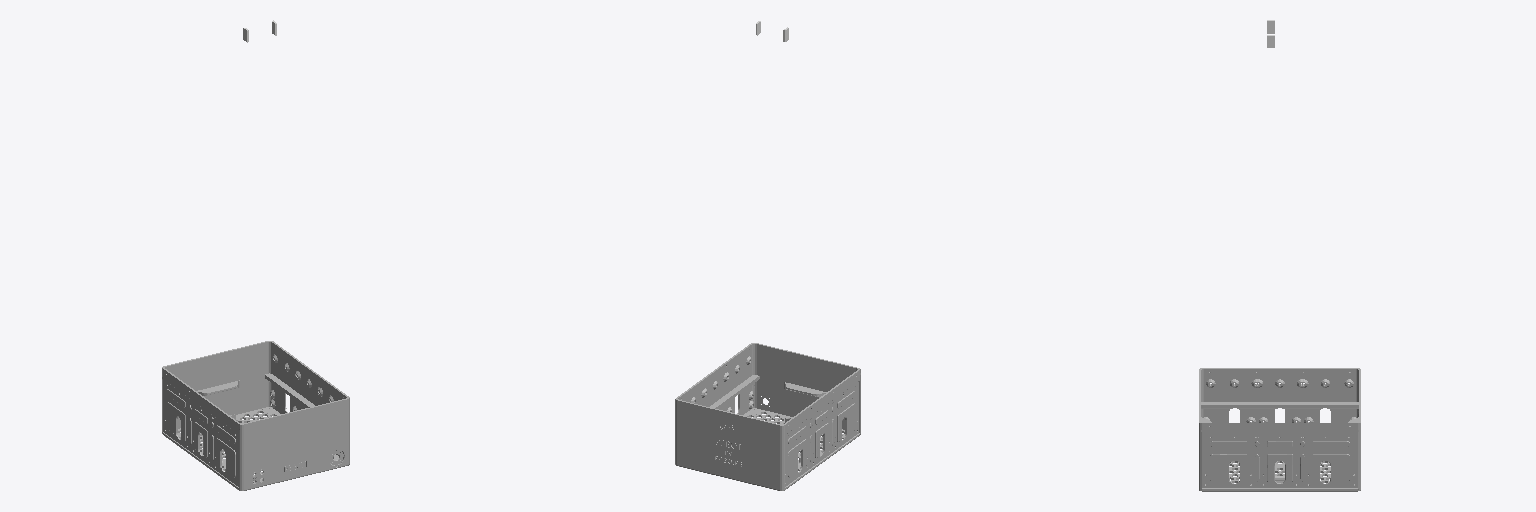
robot.urdf — gen3_robotiq_2f_85:
<?xml version="1.0" ?>
<!-- =================================================================================== -->
<!-- |    This document was autogenerated by xacro from gen3_robotiq_2f_85.xacro       | -->
<!-- |    EDITING THIS FILE BY HAND IS NOT RECOMMENDED                                 | -->
<!-- =================================================================================== -->
<robot name="gen3_robotiq_2f_85">
  <!-- Run the macros -->
  <link name="base_link">
    <inertial>
      <origin rpy="0 0 0" xyz="-0.000648 -0.000166 0.084487"/>
      <mass value="1.697"/>
      <inertia ixx="0.004622" ixy="9E-06" ixz="6E-05" iyy="0.004495" iyz="9E-06" izz="0.002079"/>
    </inertial>
    <visual>
      <origin rpy="0 0 0" xyz="0 0 0"/>
      <geometry>
        <mesh filename="meshes/base_link.STL"/>
      </geometry>
      <material name="gray">
        <color rgba="0.75294 0.75294 0.75294 1"/>
      </material>
    </visual>
    <collision>
      <origin rpy="0 0 0" xyz="0 0 0"/>
      <geometry>
        <mesh filename="meshes/base_link.STL"/>
      </geometry>
    </collision>
  </link>
  <link name="shoulder_link">
    <inertial>
      <origin rpy="0 0 0" xyz="-2.3E-05 -0.010364 -0.07336"/>
      <mass value="1.3773"/>
      <inertia ixx="0.00457" ixy="1E-06" ixz="2E-06" iyy="0.004831" iyz="0.000448" izz="0.001409"/>
    </inertial>
    <visual>
      <origin rpy="0 0 0" xyz="0 0 0"/>
      <geometry>
        <mesh filename="meshes/shoulder_link.STL"/>
      </geometry>
      <material name="gray">
        <color rgba="0.75294 0.75294 0.75294 1"/>
      </material>
    </visual>
    <collision>
      <origin rpy="0 0 0" xyz="0 0 0"/>
      <geometry>
        <mesh filename="meshes/shoulder_link.STL"/>
      </geometry>
    </collision>
  </link>
  <joint name="joint_1" type="continuous">
    <origin rpy="3.1416 2.7629E-18 -4.9305E-36" xyz="0 0 0.15643"/>
    <parent link="base_link"/>
    <child link="shoulder_link"/>
    <axis xyz="0 0 1"/>
    <limit effort="39" velocity="1.3963"/>
  </joint>
  <link name="half_arm_1_link">
    <inertial>
      <origin rpy="0 0 0" xyz="-4.4E-05 -0.09958 -0.013278"/>
      <mass value="1.1636"/>
      <inertia ixx="0.011088" ixy="5E-06" ixz="0" iyy="0.001072" iyz="-0.000691" izz="0.011255"/>
    </inertial>
    <visual>
      <origin rpy="0 0 0" xyz="0 0 0"/>
      <geometry>
        <mesh filename="meshes/half_arm_1_link.STL"/>
      </geometry>
      <material name="gray">
        <color rgba="0.75294 0.75294 0.75294 1"/>
      </material>
    </visual>
    <collision>
      <origin rpy="0 0 0" xyz="0 0 0"/>
      <geometry>
        <mesh filename="meshes/half_arm_1_link.STL"/>
      </geometry>
    </collision>
  </link>
  <joint name="joint_2" type="revolute">
    <origin rpy="1.5708 2.1343E-17 -1.1102E-16" xyz="0 0.005375 -0.12838"/>
    <parent link="shoulder_link"/>
    <child link="half_arm_1_link"/>
    <axis xyz="0 0 1"/>
    <limit effort="39" lower="-2.24" upper="2.24" velocity="1.3963"/>
  </joint>
  <link name="half_arm_2_link">
    <inertial>
      <origin rpy="0 0 0" xyz="-4.4E-05 -0.006641 -0.117892"/>
      <mass value="1.1636"/>
      <inertia ixx="0.010932" ixy="0" ixz="-7E-06" iyy="0.011127" iyz="0.000606" izz="0.001043"/>
    </inertial>
    <visual>
      <origin rpy="0 0 0" xyz="0 0 0"/>
      <geometry>
        <mesh filename="meshes/half_arm_2_link.STL"/>
      </geometry>
      <material name="gray">
        <color rgba="0.75294 0.75294 0.75294 1"/>
      </material>
    </visual>
    <collision>
      <origin rpy="0 0 0" xyz="0 0 0"/>
      <geometry>
        <mesh filename="meshes/half_arm_2_link.STL"/>
      </geometry>
    </collision>
  </link>
  <joint name="joint_3" type="continuous">
    <origin rpy="-1.5708 1.2326E-32 -2.9122E-16" xyz="0 -0.21038 -0.006375"/>
    <parent link="half_arm_1_link"/>
    <child link="half_arm_2_link"/>
    <axis xyz="0 0 1"/>
    <limit effort="39" velocity="1.3963"/>
  </joint>
  <link name="forearm_link">
    <inertial>
      <origin rpy="0 0 0" xyz="-1.8E-05 -0.075478 -0.015006"/>
      <mass value="0.9302"/>
      <inertia ixx="0.008147" ixy="-1E-06" ixz="0" iyy="0.000631" iyz="-0.0005" izz="0.008316"/>
    </inertial>
    <visual>
      <origin rpy="0 0 0" xyz="0 0 0"/>
      <geometry>
        <mesh filename="meshes/forearm_link.STL"/>
      </geometry>
      <material name="gray">
        <color rgba="0.75294 0.75294 0.75294 1"/>
      </material>
    </visual>
    <collision>
      <origin rpy="0 0 0" xyz="0 0 0"/>
      <geometry>
        <mesh filename="meshes/forearm_link.STL"/>
      </geometry>
    </collision>
  </link>
  <joint name="joint_4" type="revolute">
    <origin rpy="1.5708 -6.6954E-17 -1.6653E-16" xyz="0 0.006375 -0.21038"/>
    <parent link="half_arm_2_link"/>
    <child link="forearm_link"/>
    <axis xyz="0 0 1"/>
    <limit effort="39" lower="-2.57" upper="2.57" velocity="1.3963"/>
  </joint>
  <link name="spherical_wrist_1_link">
    <inertial>
      <origin rpy="0 0 0" xyz="1E-06 -0.009432 -0.063883"/>
      <mass value="0.6781"/>
      <inertia ixx="0.001596" ixy="0" ixz="0" iyy="0.001607" iyz="0.000256" izz="0.000399"/>
    </inertial>
    <visual>
      <origin rpy="0 0 0" xyz="0 0 0"/>
      <geometry>
        <mesh filename="meshes/spherical_wrist_1_link.STL"/>
      </geometry>
      <material name="gray">
        <color rgba="0.75294 0.75294 0.75294 1"/>
      </material>
    </visual>
    <collision>
      <origin rpy="0 0 0" xyz="0 0 0"/>
      <geometry>
        <mesh filename="meshes/spherical_wrist_1_link.STL"/>
      </geometry>
    </collision>
  </link>
  <joint name="joint_5" type="continuous">
    <origin rpy="-1.5708 2.2204E-16 -6.373E-17" xyz="0 -0.20843 -0.006375"/>
    <parent link="forearm_link"/>
    <child link="spherical_wrist_1_link"/>
    <axis xyz="0 0 1"/>
    <limit effort="9" velocity="1.2218"/>
  </joint>
  <link name="spherical_wrist_2_link">
    <inertial>
      <origin rpy="0 0 0" xyz="1E-06 -0.045483 -0.00965"/>
      <mass value="0.6781"/>
      <inertia ixx="0.001641" ixy="0" ixz="0" iyy="0.00041" iyz="-0.000278" izz="0.001641"/>
    </inertial>
    <visual>
      <origin rpy="0 0 0" xyz="0 0 0"/>
      <geometry>
        <mesh filename="meshes/spherical_wrist_2_link.STL"/>
      </geometry>
      <material name="gray">
        <color rgba="0.75294 0.75294 0.75294 1"/>
      </material>
    </visual>
    <collision>
      <origin rpy="0 0 0" xyz="0 0 0"/>
      <geometry>
        <mesh filename="meshes/spherical_wrist_2_link.STL"/>
      </geometry>
    </collision>
  </link>
  <joint name="joint_6" type="revolute">
    <origin rpy="1.5708 9.2076E-28 -8.2157E-15" xyz="0 0.00017505 -0.10593"/>
    <parent link="spherical_wrist_1_link"/>
    <child link="spherical_wrist_2_link"/>
    <axis xyz="0 0 1"/>
    <limit effort="9" lower="-2.09" upper="2.09" velocity="1.2218"/>
  </joint>
  <link name="bracelet_link">
    <inertial>
      <origin rpy="0 0 0" xyz="0.000281 0.011402 -0.029798"/>
      <mass value="0.5"/>
      <inertia ixx="0.000587" ixy="3E-06" ixz="3E-06" iyy="0.000369" iyz="-0.000118" izz="0.000609"/>
    </inertial>
    <visual>
      <origin rpy="0 0 0" xyz="0 0 0"/>
      <geometry>
        <mesh filename="meshes/bracelet_with_vision_link.STL"/>
      </geometry>
      <material name="gray">
        <color rgba="0.75294 0.75294 0.75294 1"/>
      </material>
    </visual>
    <collision>
      <origin rpy="0 0 0" xyz="0 0 0"/>
      <geometry>
        <mesh filename="meshes/bracelet_with_vision_link.STL"/>
      </geometry>
    </collision>
  </link>
  <joint name="joint_7" type="continuous">
    <origin rpy="-1.5708 -5.5511E-17 9.6396E-17" xyz="0 -0.10593 -0.00017505"/>
    <parent link="spherical_wrist_2_link"/>
    <child link="bracelet_link"/>
    <axis xyz="0 0 1"/>
    <limit effort="9" velocity="1.2218"/>
  </joint>
  <link name="end_effector_link"/>
  <joint name="end_effector" type="fixed">
    <origin rpy="3.14159265358979 1.09937075168372E-32 0" xyz="0 0 -0.0615250000000001"/>
    <parent link="bracelet_link"/>
    <child link="end_effector_link"/>
    <axis xyz="0 0 0"/>
  </joint>
  <link name="camera_link"/>
  <joint name="camera_module" type="fixed">
    <origin rpy="3.14159265358979 3.14159265358979 0" xyz="0 0.05639 -0.00305"/>
    <parent link="end_effector_link"/>
    <child link="camera_link"/>
  </joint>
  <link name="camera_depth_frame"/>
  <joint name="depth_module" type="fixed">
    <origin rpy="3.14159265358979 3.14159265358979 0" xyz="0.0275 0.066 -0.00305"/>
    <parent link="end_effector_link"/>
    <child link="camera_depth_frame"/>
  </joint>
  <link name="camera_color_frame"/>
  <joint name="color_module" type="fixed">
    <origin rpy="3.14159265358979 3.14159265358979 0" xyz="0 0.05639 -0.00305"/>
    <parent link="end_effector_link"/>
    <child link="camera_color_frame"/>
  </joint>
  <!-- This line was removed by Kinova because we replaced the transmission file with our own 
    <xacro:include filename="$(find robotiq_2f_85_gripper_visualization)/urdf/robotiq_arg2f_transmission.xacro" /> -->
  <!-- Tool frame used by the arm -->
  <link name="tool_frame"/>
  <joint name="tool_frame_joint" type="fixed">
    <origin rpy="0 0 0" xyz="0 0 0.120"/>
    <parent link="end_effector_link"/>
    <child link="tool_frame"/>
    <axis xyz="0 0 0"/>
  </joint>
  <!-- This joint was added by Kinova -->
  <joint name="gripper_base_joint" type="fixed">
    <parent link="end_effector_link"/>
    <child link="robotiq_arg2f_base_link"/>
    <origin rpy="0.0 0.0 1.57" xyz="0.0 0.0 0.0"/>
  </joint>
  <link name="robotiq_arg2f_base_link">
    <inertial>
      <origin rpy="0 0 0" xyz="8.625E-08 -4.6583E-06 0.03145"/>
      <mass value="0.22652"/>
      <inertia ixx="0.00020005" ixy="-4.2442E-10" ixz="-2.9069E-10" iyy="0.00017832" iyz="-3.4402E-08" izz="0.00013478"/>
    </inertial>
    <visual>
      <origin rpy="0 0 0" xyz="0 0 0"/>
      <geometry>
        <!-- The DAE file doesn't show well in Gazebo so we're using the STL instead -->
        <!-- <mesh filename="package://kortex_description/grippers/robotiq_2f_85/meshes/visual/robotiq_arg2f_85_base_link.dae" scale="0.001 0.001 0.001"/> -->
        <mesh filename="meshes/collision/robotiq_arg2f_base_link_85.stl"/>
      </geometry>
      <material name="black">
        <color rgba="0.1 0.1 0.1 1"/>
      </material>
    </visual>
    <collision>
      <origin rpy="0 0 0" xyz="0 0 0"/>
      <geometry>
        <mesh filename="meshes/collision/robotiq_arg2f_base_link_85.stl"/>
      </geometry>
    </collision>
  </link>
  <gazebo reference="robotiq_arg2f_base_link">
    <material>Gazebo/Black</material>
  </gazebo>
  <link name="left_outer_knuckle">
    <inertial>
      <origin rpy="0 0 0" xyz="-0.000200000000003065 0.0199435877845359 0.0292245259211331"/>
      <mass value="0.00853198276973456"/>
      <inertia ixx="2.89328108496468E-06" ixy="-1.57935047237397E-19" ixz="-1.93980378593255E-19" iyy="1.86719750325683E-06" iyz="-1.21858577871576E-06" izz="1.21905238907251E-06"/>
    </inertial>
    <visual>
      <origin rpy="0 0 0" xyz="0 0 0"/>
      <geometry>
        <mesh filename="meshes/visual/robotiq_arg2f_85_outer_knuckle.dae" scale="0.001 0.001 0.001"/>
      </geometry>
      <material name="white">
        <color rgba="0.792156862745098 0.819607843137255 0.933333333333333 1"/>
      </material>
    </visual>
    <collision>
      <origin rpy="0 0 0" xyz="0 0 0"/>
      <geometry>
        <mesh filename="meshes/collision/robotiq_arg2f_85_outer_knuckle.dae" scale="0.001 0.001 0.001"/>
      </geometry>
    </collision>
  </link>
  <link name="left_outer_finger">
    <inertial>
      <origin rpy="0 0 0" xyz="0.00030115855001899 0.0373907951953854 -0.0208027427000385"/>
      <mass value="0.022614240507152"/>
      <inertia ixx="1.52518312458174E-05" ixy="9.76583423954399E-10" ixz="-5.43838577022588E-10" iyy="6.17694243867776E-06" iyz="6.78636130740228E-06" izz="1.16494917907219E-05"/>
    </inertial>
    <visual>
      <origin rpy="0 0 0" xyz="0 0 0"/>
      <geometry>
        <mesh filename="meshes/visual/robotiq_arg2f_85_outer_finger.dae" scale="0.001 0.001 0.001"/>
      </geometry>
      <material name="black">
        <color rgba="0.1 0.1 0.1 1"/>
      </material>
    </visual>
    <collision>
      <origin rpy="0 0 0" xyz="0 0 0"/>
      <geometry>
        <mesh filename="meshes/collision/robotiq_arg2f_85_outer_finger.dae" scale="0.001 0.001 0.001"/>
      </geometry>
    </collision>
  </link>
  <link name="left_inner_finger">
    <inertial>
      <origin rpy="0 0 0" xyz="0.000299999999999317 0.0160078233491243 -0.0136945669206257"/>
      <mass value="0.0104003125914103"/>
      <inertia ixx="2.71909453810972E-06" ixy="1.35402465472579E-21" ixz="-7.1817349065269E-22" iyy="7.69100314106116E-07" iyz="6.74715432769696E-07" izz="2.30315190420171E-06"/>
    </inertial>
    <visual>
      <origin rpy="0 0 0" xyz="0 0 0"/>
      <geometry>
        <mesh filename="meshes/visual/robotiq_arg2f_85_inner_finger.dae" scale="0.001 0.001 0.001"/>
      </geometry>
      <material name="black">
        <color rgba="0.1 0.1 0.1 1"/>
      </material>
    </visual>
    <collision>
      <origin rpy="0 0 0" xyz="0 0 0"/>
      <geometry>
        <mesh filename="meshes/collision/robotiq_arg2f_85_inner_finger.dae" scale="0.001 0.001 0.001"/>
      </geometry>
    </collision>
  </link>
  <link name="left_inner_finger_pad">
    <visual>
      <origin rpy="0 0 0" xyz="0 0 0"/>
      <geometry>
        <box size="0.022 0.00635 0.0375"/>
      </geometry>
      <material name="white">
        <color rgba="0.9 0.9 0.9 1"/>
      </material>
    </visual>
    <collision>
      <origin rpy="0 0 0" xyz="0 0 0"/>
      <geometry>
        <box size="0.022 0.00635 0.0375"/>
      </geometry>
      <material name="red">
        <color rgba="0.9 0.0 0.0 1"/>
      </material>
    </collision>
  </link>
  <link name="left_inner_knuckle">
    <inertial>
      <origin rpy="0 0 0" xyz="0.000123011831763771 0.0507850843201817 0.00103968640075166"/>
      <mass value="0.0271177346495152"/>
      <inertia ixx="2.61910379223783E-05" ixy="-2.43616858946494E-07" ixz="-6.37789906117123E-09" iyy="2.8270243746167E-06" iyz="-5.37200748039765E-07" izz="2.83695868220296E-05"/>
    </inertial>
    <visual>
      <origin rpy="0 0 0" xyz="0 0 0"/>
      <geometry>
        <mesh filename="meshes/visual/robotiq_arg2f_85_inner_knuckle.dae" scale="0.001 0.001 0.001"/>
      </geometry>
      <material name="black">
        <color rgba="0.1 0.1 0.1 1"/>
      </material>
    </visual>
    <collision>
      <origin rpy="0 0 0" xyz="0 0 0"/>
      <geometry>
        <mesh filename="meshes/collision/robotiq_arg2f_85_inner_knuckle.dae" scale="0.001 0.001 0.001"/>
      </geometry>
    </collision>
  </link>
  <link name="right_outer_knuckle">
    <inertial>
      <origin rpy="0 0 0" xyz="-0.000200000000003065 0.0199435877845359 0.0292245259211331"/>
      <mass value="0.00853198276973456"/>
      <inertia ixx="2.89328108496468E-06" ixy="-1.57935047237397E-19" ixz="-1.93980378593255E-19" iyy="1.86719750325683E-06" iyz="-1.21858577871576E-06" izz="1.21905238907251E-06"/>
    </inertial>
    <visual>
      <origin rpy="0 0 0" xyz="0 0 0"/>
      <geometry>
        <mesh filename="meshes/visual/robotiq_arg2f_85_outer_knuckle.dae" scale="0.001 0.001 0.001"/>
      </geometry>
      <material name="white">
        <color rgba="0.792156862745098 0.819607843137255 0.933333333333333 1"/>
      </material>
    </visual>
    <collision>
      <origin rpy="0 0 0" xyz="0 0 0"/>
      <geometry>
        <mesh filename="meshes/collision/robotiq_arg2f_85_outer_knuckle.dae" scale="0.001 0.001 0.001"/>
      </geometry>
    </collision>
  </link>
  <link name="right_outer_finger">
    <inertial>
      <origin rpy="0 0 0" xyz="0.00030115855001899 0.0373907951953854 -0.0208027427000385"/>
      <mass value="0.022614240507152"/>
      <inertia ixx="1.52518312458174E-05" ixy="9.76583423954399E-10" ixz="-5.43838577022588E-10" iyy="6.17694243867776E-06" iyz="6.78636130740228E-06" izz="1.16494917907219E-05"/>
    </inertial>
    <visual>
      <origin rpy="0 0 0" xyz="0 0 0"/>
      <geometry>
        <mesh filename="meshes/visual/robotiq_arg2f_85_outer_finger.dae" scale="0.001 0.001 0.001"/>
      </geometry>
      <material name="black">
        <color rgba="0.1 0.1 0.1 1"/>
      </material>
    </visual>
    <collision>
      <origin rpy="0 0 0" xyz="0 0 0"/>
      <geometry>
        <mesh filename="meshes/collision/robotiq_arg2f_85_outer_finger.dae" scale="0.001 0.001 0.001"/>
      </geometry>
    </collision>
  </link>
  <link name="right_inner_finger">
    <inertial>
      <origin rpy="0 0 0" xyz="0.000299999999999317 0.0160078233491243 -0.0136945669206257"/>
      <mass value="0.0104003125914103"/>
      <inertia ixx="2.71909453810972E-06" ixy="1.35402465472579E-21" ixz="-7.1817349065269E-22" iyy="7.69100314106116E-07" iyz="6.74715432769696E-07" izz="2.30315190420171E-06"/>
    </inertial>
    <visual>
      <origin rpy="0 0 0" xyz="0 0 0"/>
      <geometry>
        <mesh filename="meshes/visual/robotiq_arg2f_85_inner_finger.dae" scale="0.001 0.001 0.001"/>
      </geometry>
      <material name="black">
        <color rgba="0.1 0.1 0.1 1"/>
      </material>
    </visual>
    <collision>
      <origin rpy="0 0 0" xyz="0 0 0"/>
      <geometry>
        <mesh filename="meshes/collision/robotiq_arg2f_85_inner_finger.dae" scale="0.001 0.001 0.001"/>
      </geometry>
    </collision>
  </link>
  <link name="right_inner_finger_pad">
    <visual>
      <origin rpy="0 0 0" xyz="0 0 0"/>
      <geometry>
        <box size="0.022 0.00635 0.0375"/>
      </geometry>
      <material name="white">
        <color rgba="0.9 0.9 0.9 1"/>
      </material>
    </visual>
    <collision>
      <origin rpy="0 0 0" xyz="0 0 0"/>
      <geometry>
        <box size="0.022 0.00635 0.0375"/>
      </geometry>
      <material name="white">
        <color rgba="0.9 0.0 0.0 1"/>
      </material>
    </collision>
  </link>
  <link name="right_inner_knuckle">
    <inertial>
      <origin rpy="0 0 0" xyz="0.000123011831763771 0.0507850843201817 0.00103968640075166"/>
      <mass value="0.0271177346495152"/>
      <inertia ixx="2.61910379223783E-05" ixy="-2.43616858946494E-07" ixz="-6.37789906117123E-09" iyy="2.8270243746167E-06" iyz="-5.37200748039765E-07" izz="2.83695868220296E-05"/>
    </inertial>
    <visual>
      <origin rpy="0 0 0" xyz="0 0 0"/>
      <geometry>
        <mesh filename="meshes/visual/robotiq_arg2f_85_inner_knuckle.dae" scale="0.001 0.001 0.001"/>
      </geometry>
      <material name="black">
        <color rgba="0.1 0.1 0.1 1"/>
      </material>
    </visual>
    <collision>
      <origin rpy="0 0 0" xyz="0 0 0"/>
      <geometry>
        <mesh filename="/meshes/collision/robotiq_arg2f_85_inner_knuckle.dae" scale="0.001 0.001 0.001"/>
      </geometry>
    </collision>
  </link>
  <joint name="finger_joint" type="revolute">
    <origin rpy="0 0 3.141592653589793" xyz="0 -0.0306011 0.054904"/>
    <parent link="robotiq_arg2f_base_link"/>
    <child link="left_outer_knuckle"/>
    <axis xyz="1 0 0"/>
    <limit effort="1000" lower="0" upper="0.8" velocity="2.0"/>
  </joint>
  <joint name="left_outer_finger_joint" type="fixed">
    <origin rpy="0 0 0" xyz="0 0.0315 -0.0041"/>
    <parent link="left_outer_knuckle"/>
    <child link="left_outer_finger"/>
    <axis xyz="1 0 0"/>
  </joint>
  <joint name="left_inner_knuckle_joint" type="revolute">
    <!-- <origin xyz="0 ${reflect * -0.0127} 0.06142" rpy="${pi / 2 + .725} 0 ${(reflect - 1) * pi / 2}" /> -->
    <origin rpy="0 0 3.141592653589793" xyz="0 -0.0127 0.06142"/>
    <parent link="robotiq_arg2f_base_link"/>
    <child link="left_inner_knuckle"/>
    <axis xyz="1 0 0"/>
    <limit effort="1000" lower="0" upper="0.8757" velocity="2.0"/>
    <mimic joint="finger_joint" multiplier="1" offset="0"/>
  </joint>
  <joint name="left_inner_finger_joint" type="revolute">
    <origin rpy="0 0 0" xyz="0 0.0061 0.0471"/>
    <parent link="left_outer_finger"/>
    <child link="left_inner_finger"/>
    <axis xyz="1 0 0"/>
    <limit effort="1000" lower="-0.8757" upper="0.8757" velocity="2.0"/>
    <mimic joint="finger_joint" multiplier="-1" offset="0"/>
  </joint>
  <joint name="left_inner_finger_pad_joint" type="fixed">
    <origin rpy="0 0 0" xyz="0 -0.0220203446692936 0.03242"/>
    <parent link="left_inner_finger"/>
    <child link="left_inner_finger_pad"/>
    <axis xyz="0 0 1"/>
  </joint>
  <joint name="right_outer_knuckle_joint" type="revolute">
    <origin rpy="0 0 0" xyz="0 0.0306011 0.054904"/>
    <parent link="robotiq_arg2f_base_link"/>
    <child link="right_outer_knuckle"/>
    <axis xyz="1 0 0"/>
    <limit effort="1000" lower="0" upper="0.81" velocity="2.0"/>
    <mimic joint="finger_joint" multiplier="1" offset="0"/>
  </joint>
  <joint name="right_outer_finger_joint" type="fixed">
    <origin rpy="0 0 0" xyz="0 0.0315 -0.0041"/>
    <parent link="right_outer_knuckle"/>
    <child link="right_outer_finger"/>
    <axis xyz="1 0 0"/>
  </joint>
  <joint name="right_inner_knuckle_joint" type="revolute">
    <!-- <origin xyz="0 ${reflect * -0.0127} 0.06142" rpy="${pi / 2 + .725} 0 ${(reflect - 1) * pi / 2}" /> -->
    <origin rpy="0 0 0.0" xyz="0 0.0127 0.06142"/>
    <parent link="robotiq_arg2f_base_link"/>
    <child link="right_inner_knuckle"/>
    <axis xyz="1 0 0"/>
    <limit effort="1000" lower="0" upper="0.8757" velocity="2.0"/>
    <mimic joint="finger_joint" multiplier="1" offset="0"/>
  </joint>
  <joint name="right_inner_finger_joint" type="revolute">
    <origin rpy="0 0 0" xyz="0 0.0061 0.0471"/>
    <parent link="right_outer_finger"/>
    <child link="right_inner_finger"/>
    <axis xyz="1 0 0"/>
    <limit effort="1000" lower="-0.8757" upper="0.8757" velocity="2.0"/>
    <mimic joint="finger_joint" multiplier="-1" offset="0"/>
  </joint>
  <joint name="right_inner_finger_pad_joint" type="fixed">
    <origin rpy="0 0 0" xyz="0 -0.0220203446692936 0.03242"/>
    <parent link="right_inner_finger"/>
    <child link="right_inner_finger_pad"/>
    <axis xyz="0 0 1"/>
  </joint>
  <!-- <xacro:robotiq_arg2f_transmission prefix="${prefix}"/> -->
</robot>

--- Render facts (derived) ---
Views: 3 orthographic renders of the robot side by side, from view 1: azimuth 30°, elevation 25°; view 2: azimuth 150°, elevation 25°; view 3: azimuth 270°, elevation 25°.
Model gen3_robotiq_2f_85 with 24 links and 23 joints (9 revolute, 4 continuous, 10 fixed), rooted at base_link, posed all joints at 0.
Links seen in each view (by area): view 1: base_link; view 2: base_link; view 3: base_link.
Link boxes in pixels (x1=…): base_link: x1=162, y1=341, x2=349, y2=490; base_link: x1=675, y1=343, x2=860, y2=490; base_link: x1=1199, y1=368, x2=1360, y2=491.
Size in the robot's own frame: 0.362 by 0.452 by 1.34 metres.
1 mesh visuals loaded from 13 distinct referenced files (1 binary STL); not drawn: 16 (reference not matched to a file when rendering).